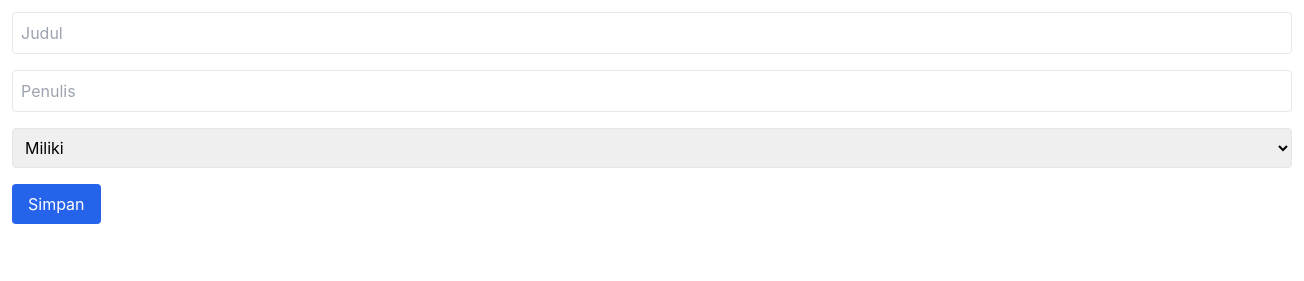
Test: tampilkan pesan error jika input kosong dan submit
Click the button "Simpan" at [56, 204], box [12,184,100,224]
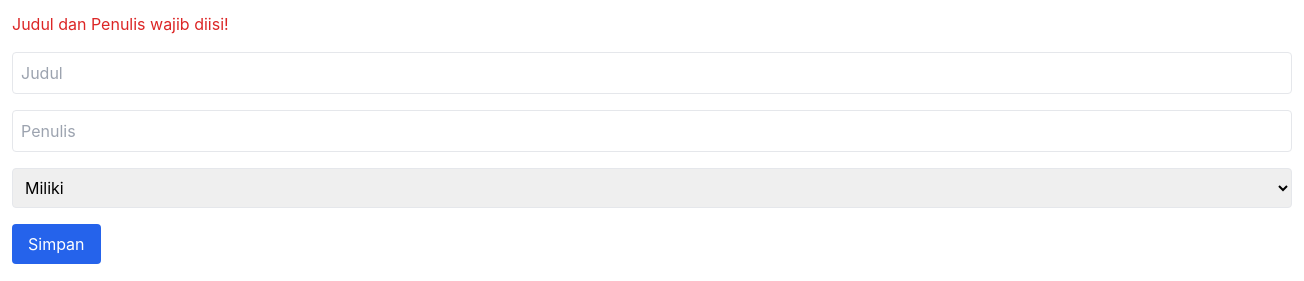
Result: the text "Judul dan Penulis wajib diisi!" is shown at [12,14,229,34]
